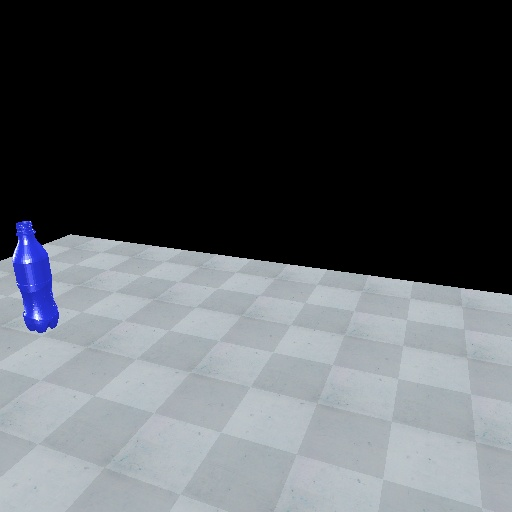bottle: (10, 219, 61, 335)
